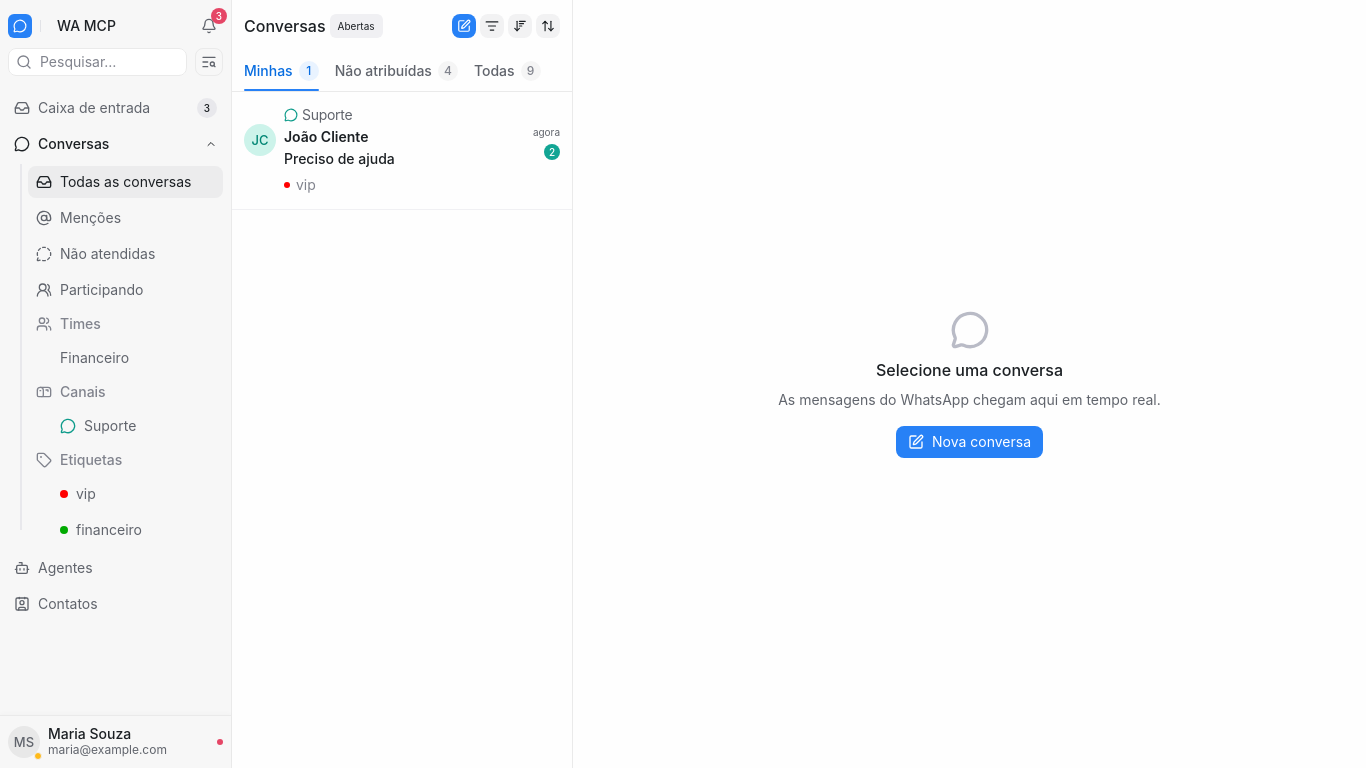
Test: profile settings › opens from the profile menu, and agents reach their macros there
This screenshot has width=1366, height=768.
Expected: the heading "Conversas" is shown, [244,14,326,38]
Step 1. Click the button with aria-label "Perfil" → x=116, y=742, box [4,722,227,762]
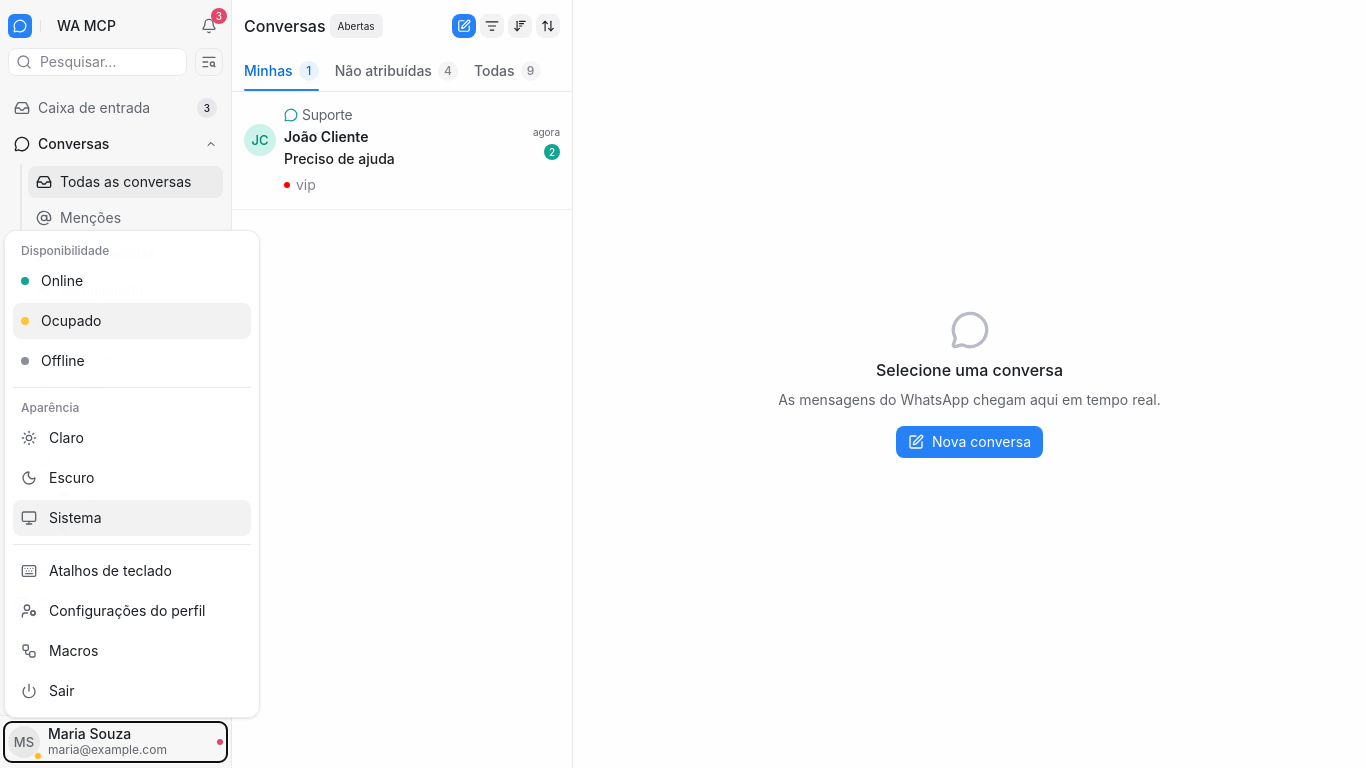
Step 2. Click the menu item "Configurações do perfil" → x=132, y=611, box [13,593,251,629]
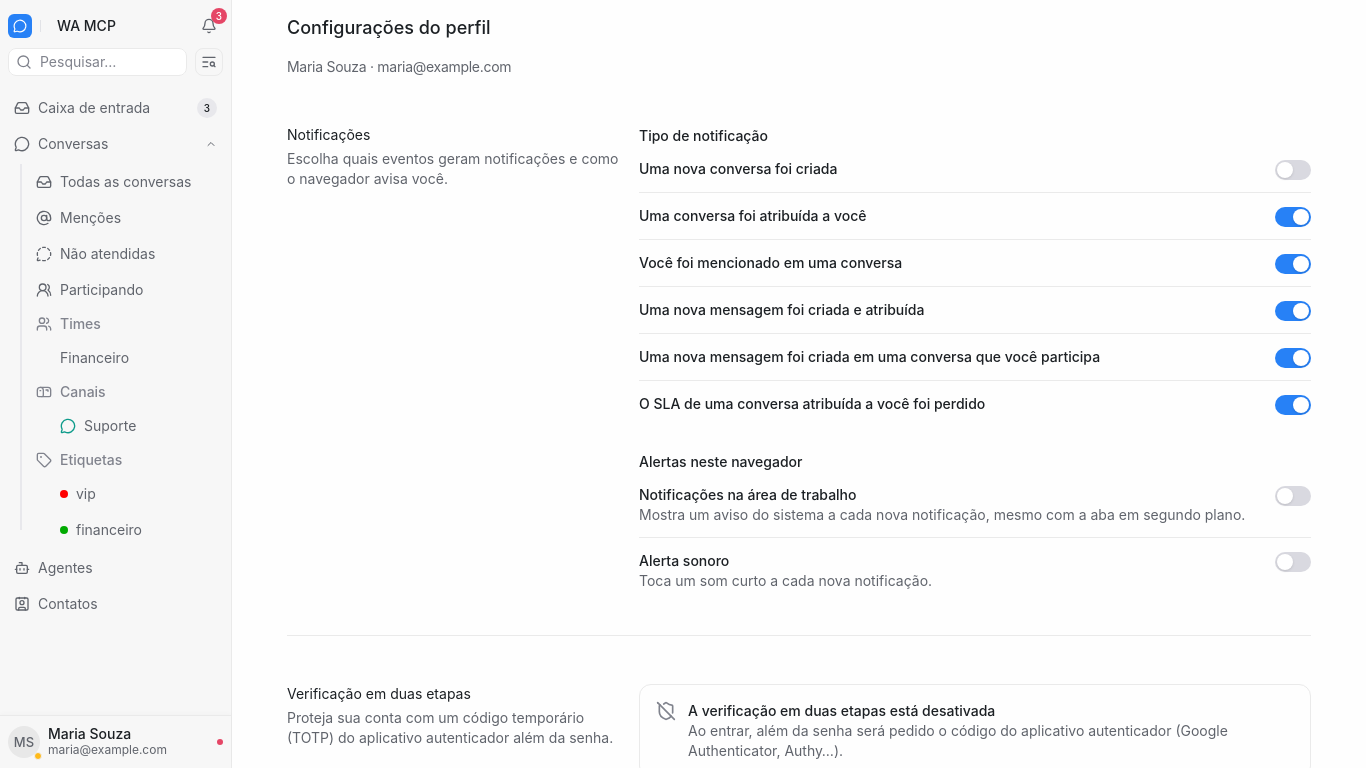
Now the heading "Configurações do perfil" is shown, box [287,17,490,38]
Step 3. Click the button with aria-label "Perfil" → x=116, y=742, box [4,722,227,762]
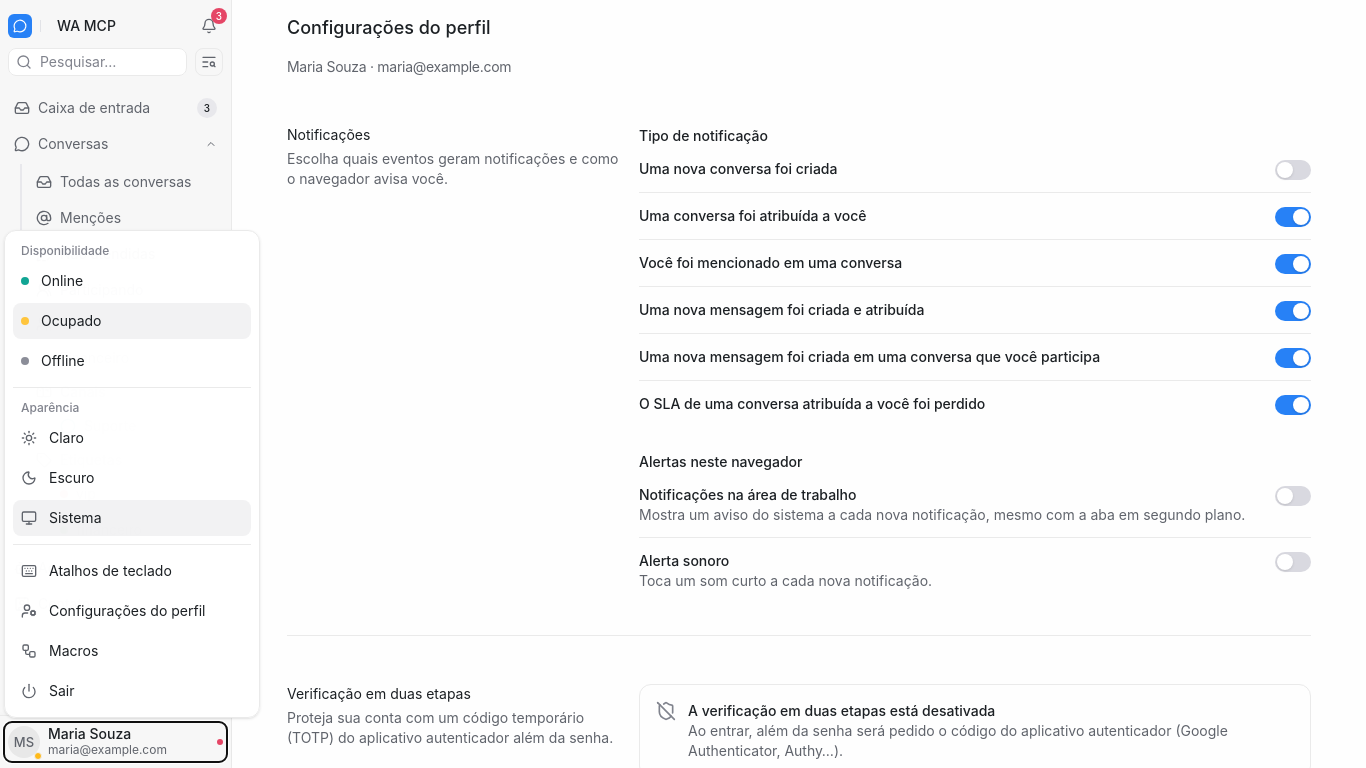
Step 4. Click the menu item "Macros" → x=132, y=651, box [13,633,251,669]
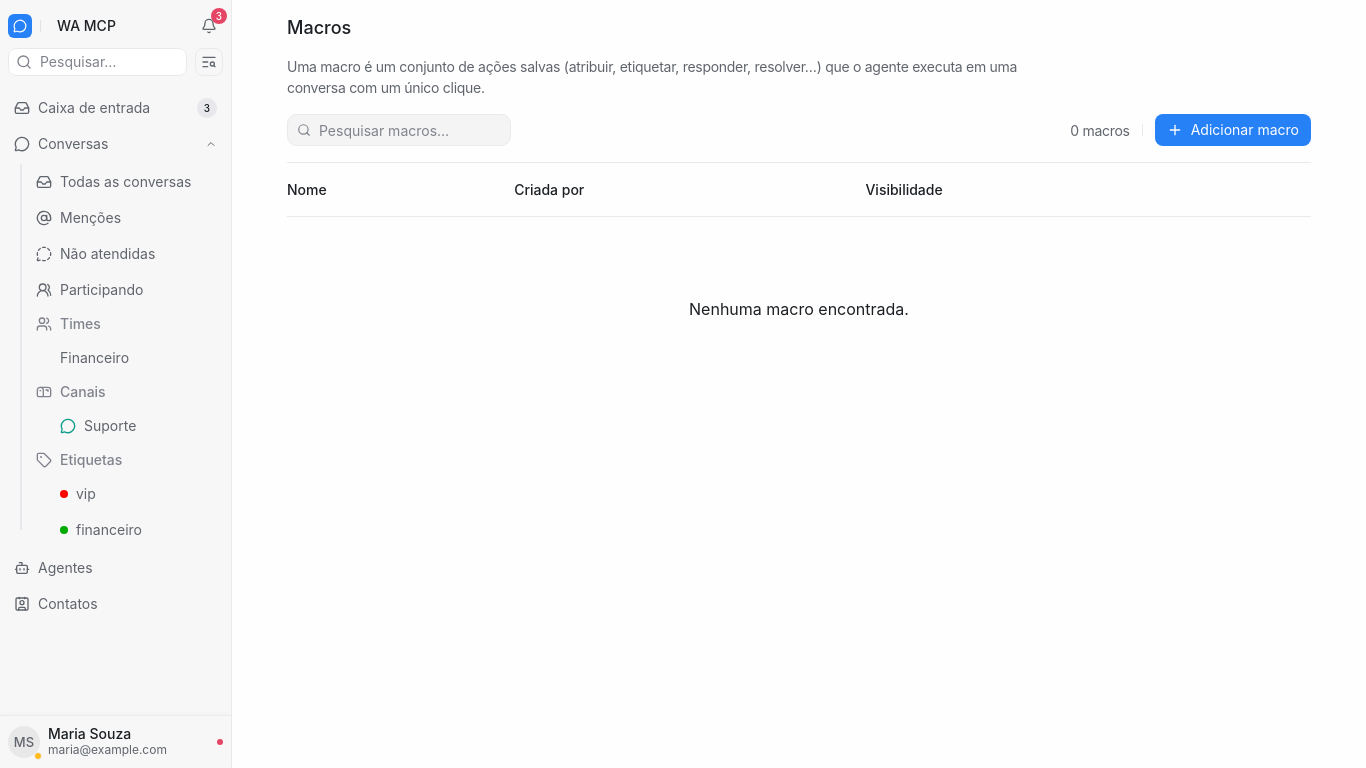
Now the heading "Macros" is shown, box [287,17,351,38]
Now the text "Nenhuma macro encontrada." is shown, box [287,216,1311,401]
